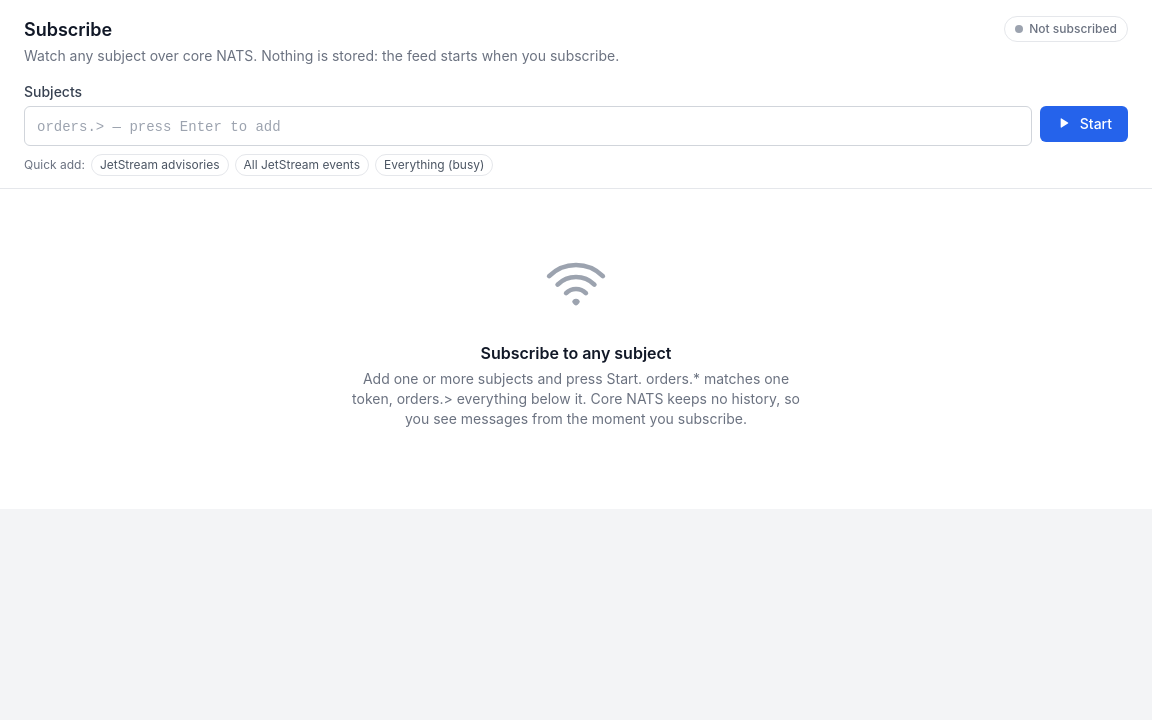
SubscribePage › says the subscription is down once the client stopped trying
In the dropdown labelled "Subjects": (528, 127) x1=33 y1=115 x2=1023 y2=139, type "orders.>"
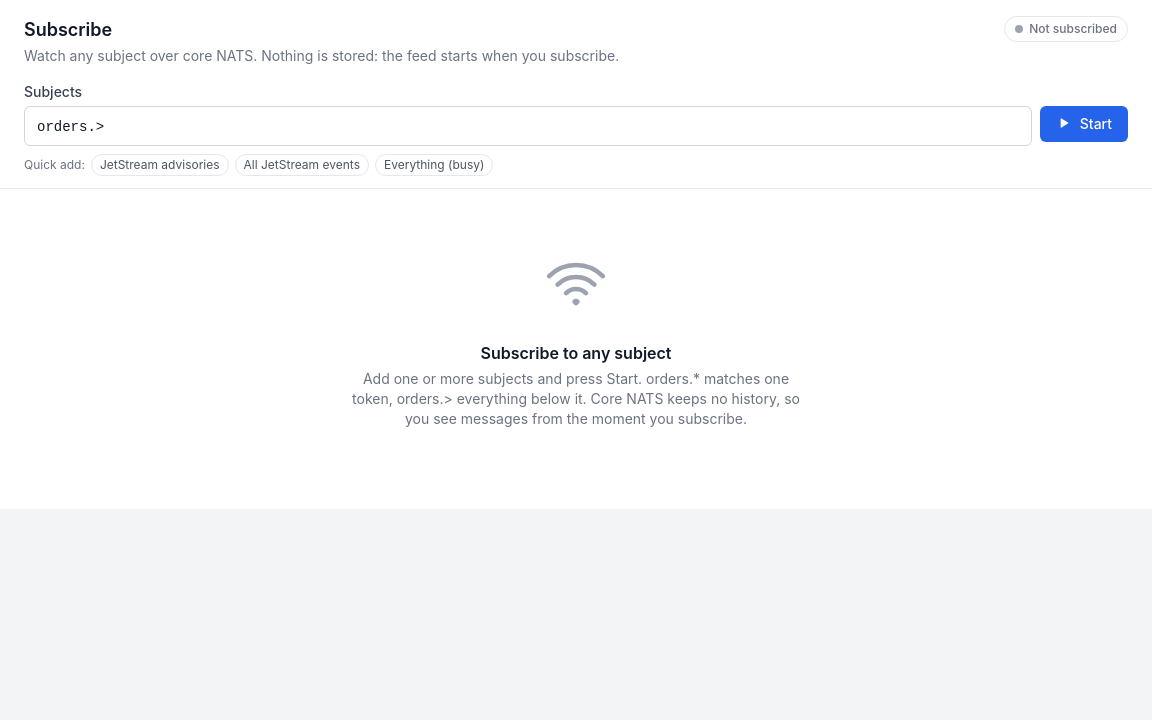
Press Enter in the dropdown labelled "Subjects", box x1=33 y1=115 x2=1023 y2=139
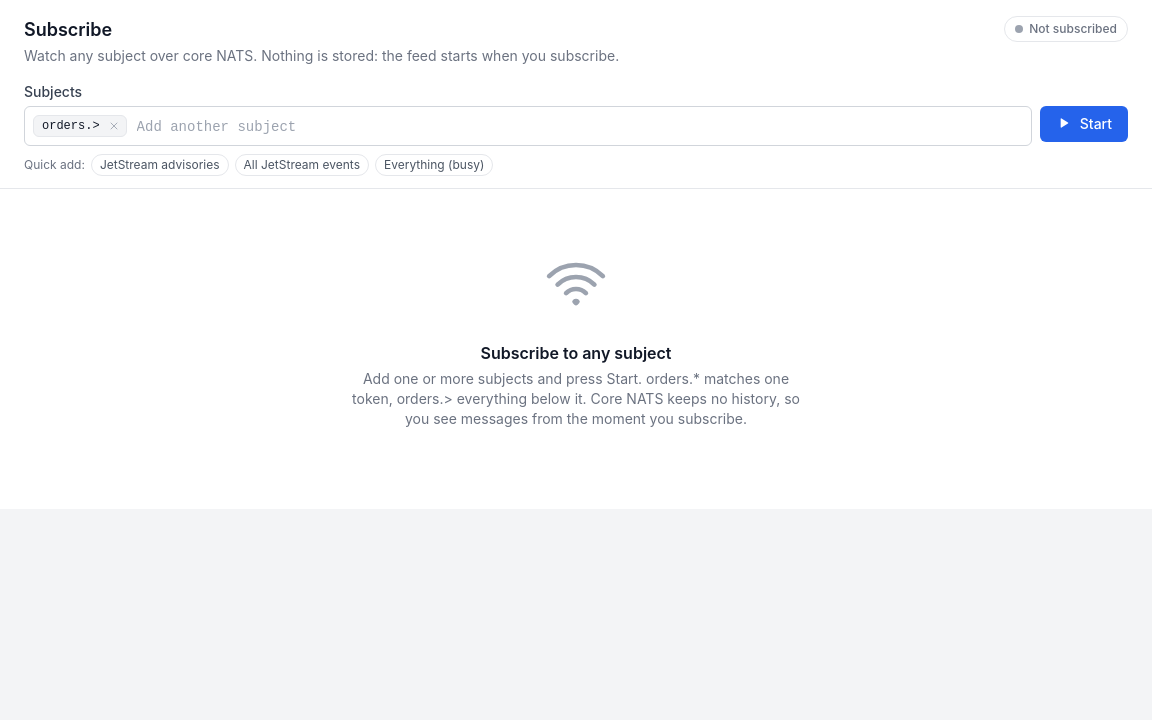
Click the button "Start": (1084, 124) x1=1040 y1=106 x2=1128 y2=142
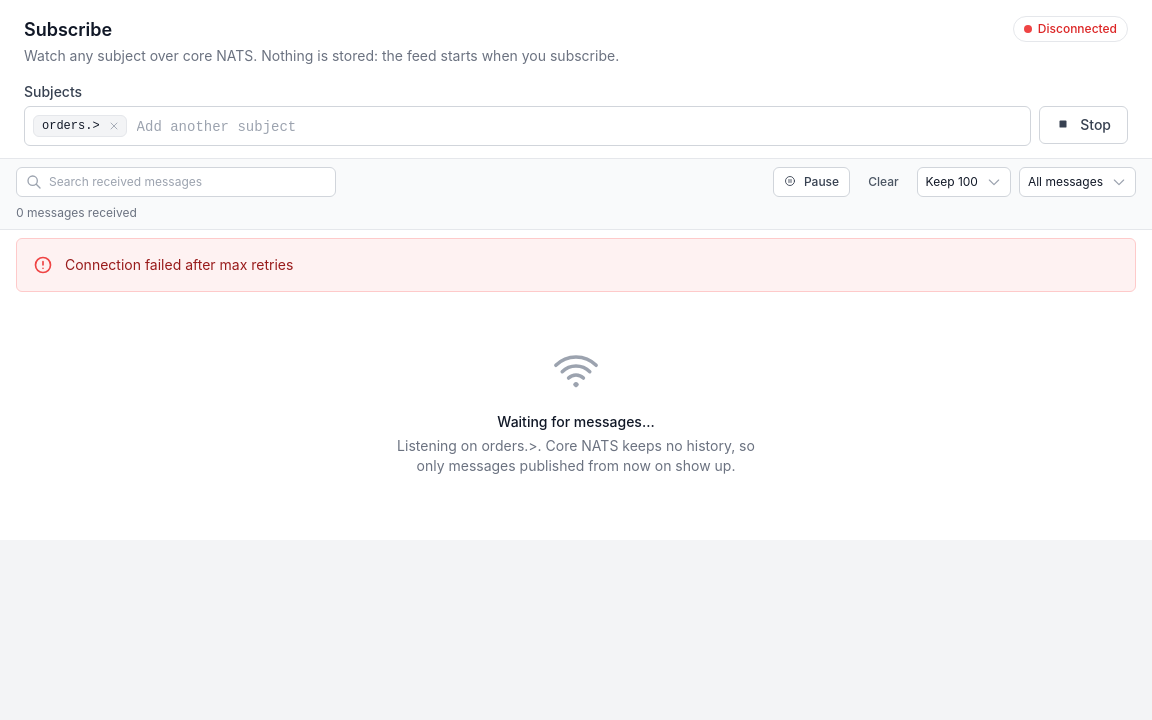
Expected: the message with test id "subscribe-status" reads "Disconnected", x1=1038 y1=21 x2=1117 y2=36
